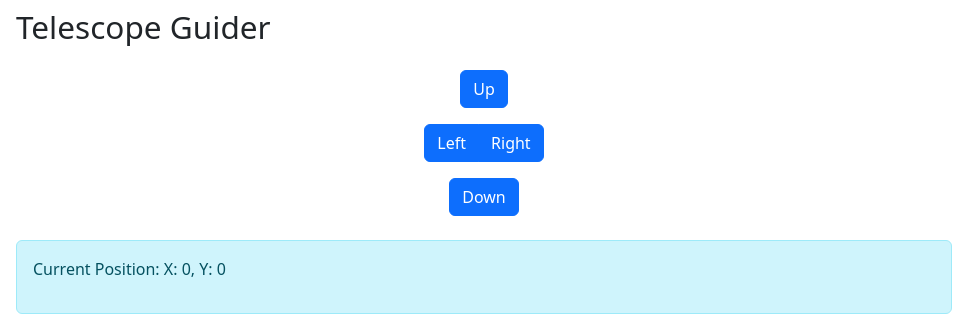
Test: Guider Component › moves telescope up
The image size is (969, 331).
Step 1. Click the button "Up" → (484, 89), box [460, 70, 508, 108]
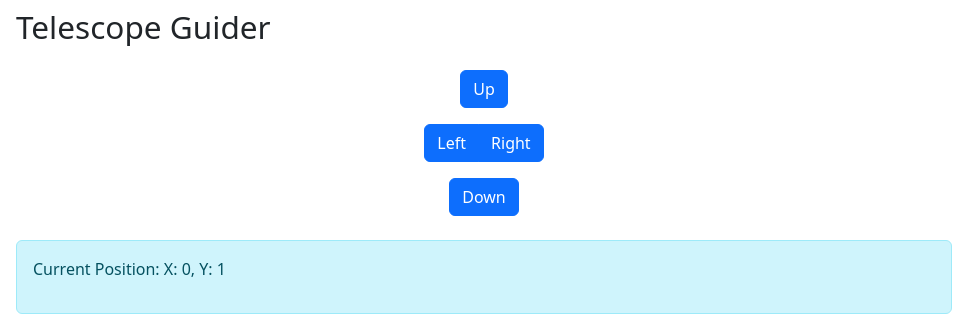
Check: the text "Current Position: X: 0, Y: 1" is shown, box [33, 258, 226, 280]
